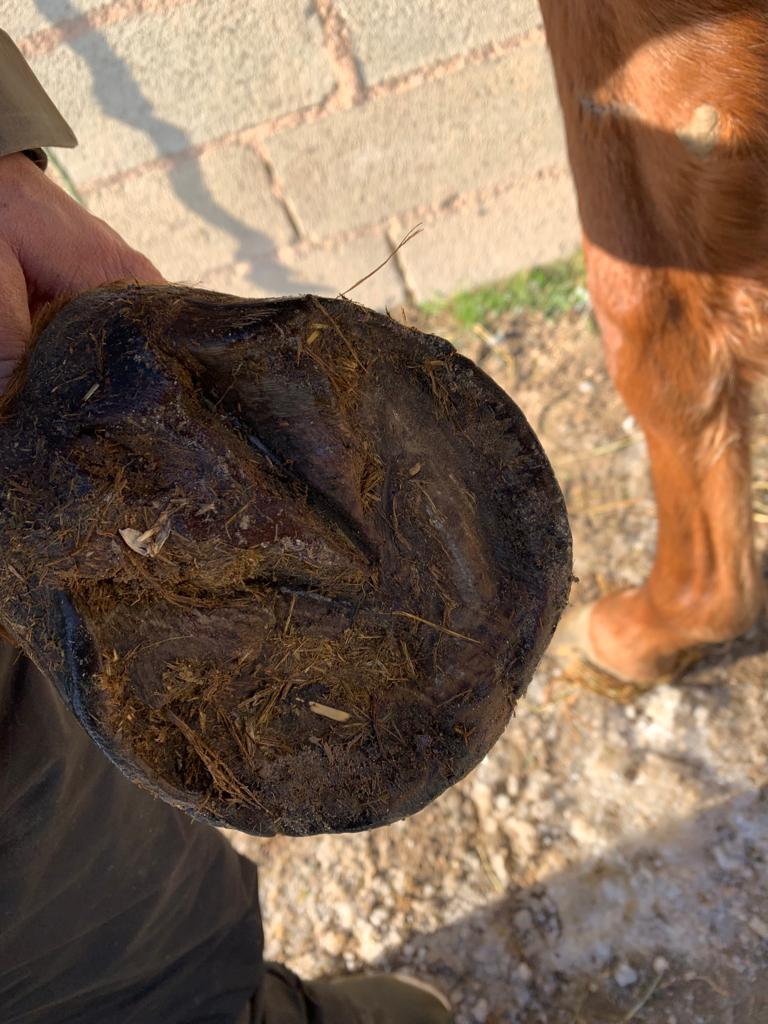horsesole: (65, 294, 574, 838)
